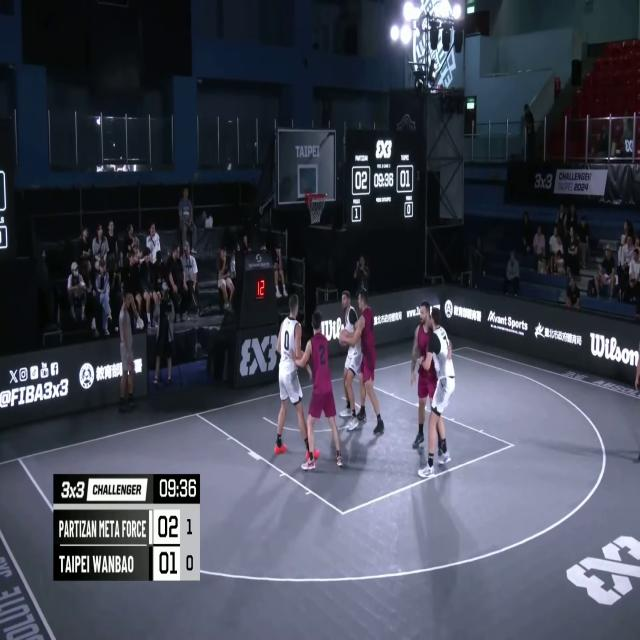ball: (339, 326, 349, 350)
hoop: (307, 189, 326, 228)
player: (409, 298, 454, 467), (299, 313, 342, 474), (274, 296, 312, 471), (416, 312, 456, 478), (349, 287, 384, 435), (338, 288, 370, 435)
